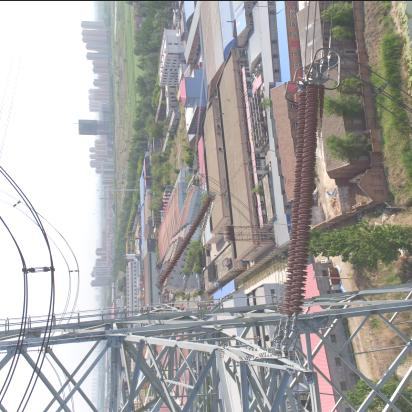insulator: (273, 81, 329, 330), (165, 185, 211, 296)
